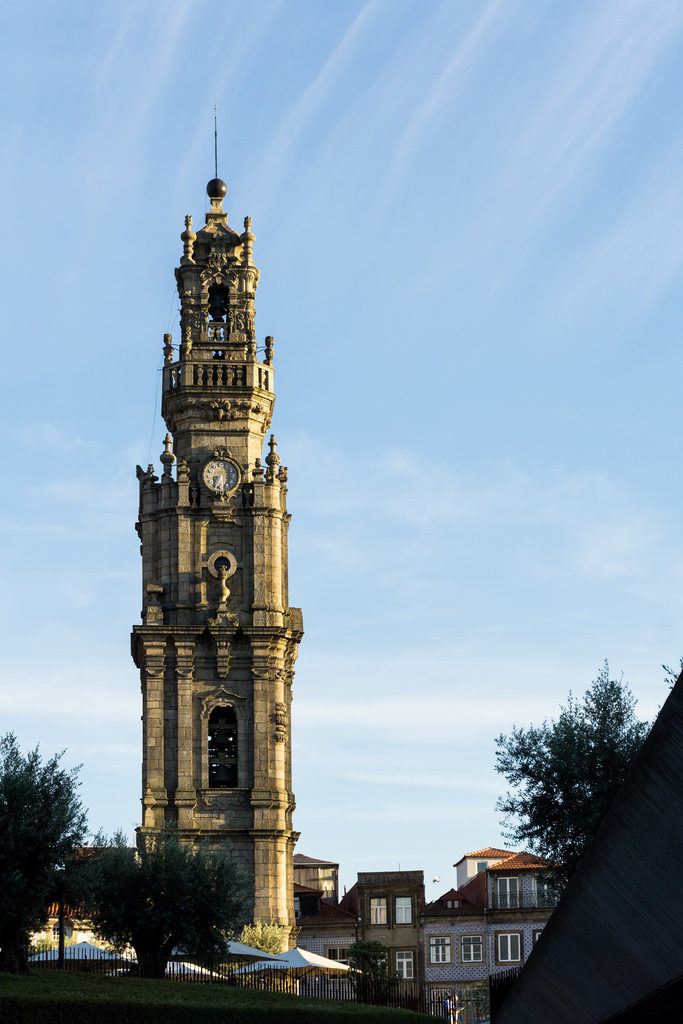clerigos: (133, 106, 303, 995)
